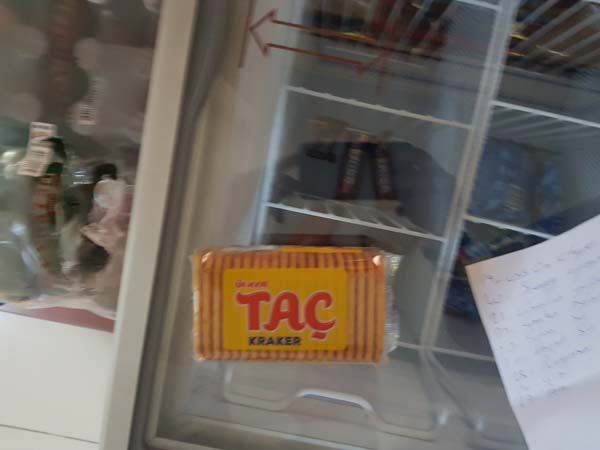tackraker: (175, 243, 410, 373)
